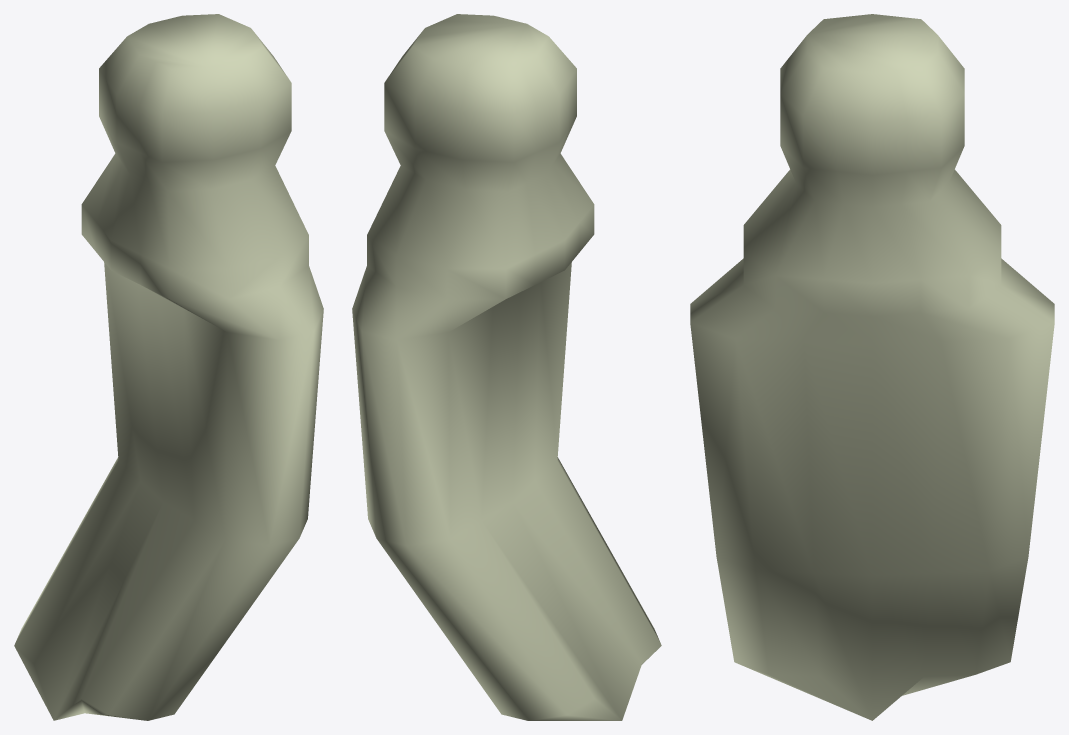
The model's file is anime_robot_left_hand.dae.
3 views of the same model, side by side, from view 1: azimuth 30°, elevation 25°; view 2: azimuth 150°, elevation 25°; view 3: azimuth 270°, elevation 25° (orthographic). The views are drawn at different scales.
Visible parts, largest first — view 1: Cube12_extract20-0; view 2: Cube12_extract20-0; view 3: Cube12_extract20-0.
Part boxes in pixels (box(x1,y1,x2,y2)): Cube12_extract20-0: box(14, 14, 323, 720); Cube12_extract20-0: box(352, 14, 661, 720); Cube12_extract20-0: box(690, 14, 1054, 720).
Bounding box in the file's own units: 0.3356 × 0.916 × 0.4289.
